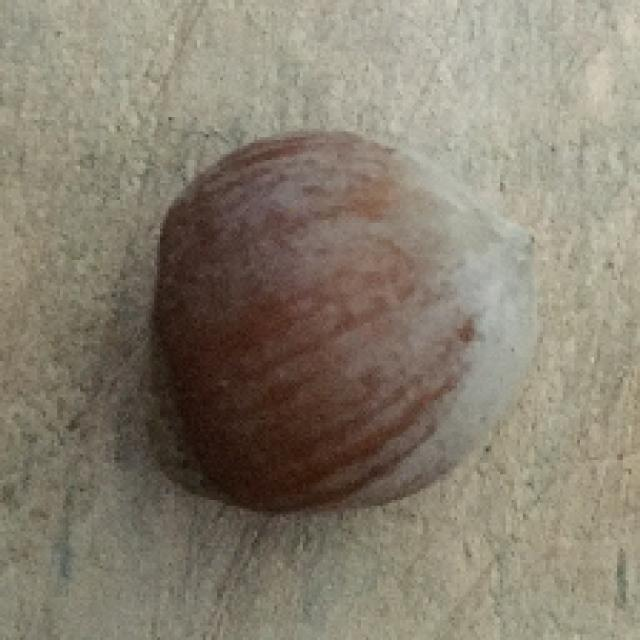qualityHazelnut: (136, 126, 542, 513)
